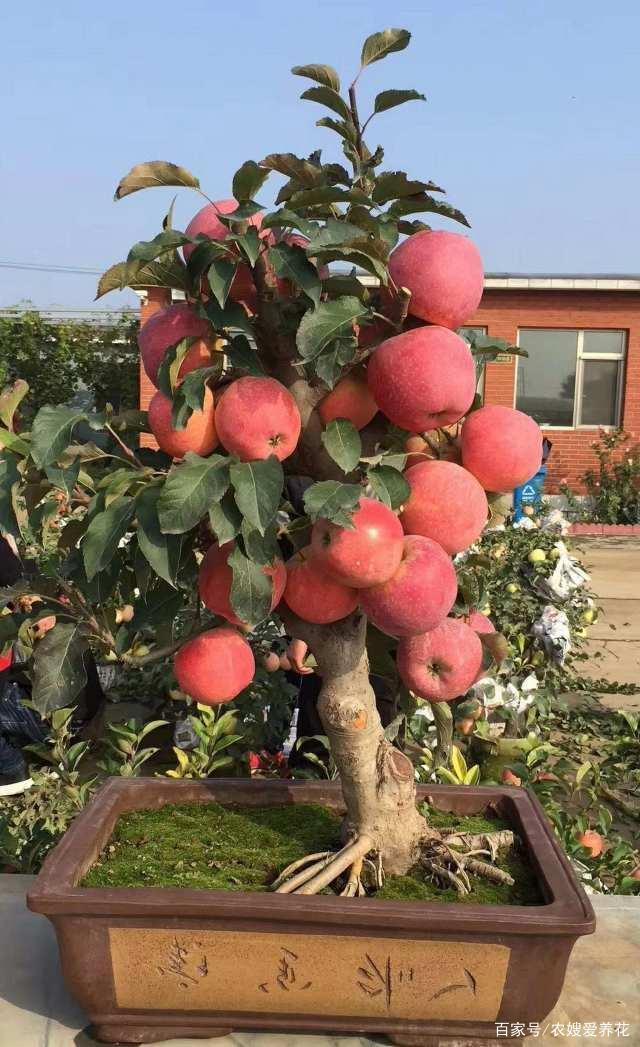apple: (370, 328, 476, 434), (359, 535, 460, 638), (387, 228, 482, 329), (394, 458, 488, 554), (212, 377, 300, 470), (314, 499, 405, 588), (461, 404, 542, 494), (199, 543, 287, 624), (401, 617, 485, 700), (141, 301, 221, 387), (175, 627, 255, 704), (150, 391, 221, 457), (186, 196, 267, 252), (316, 372, 377, 430)
